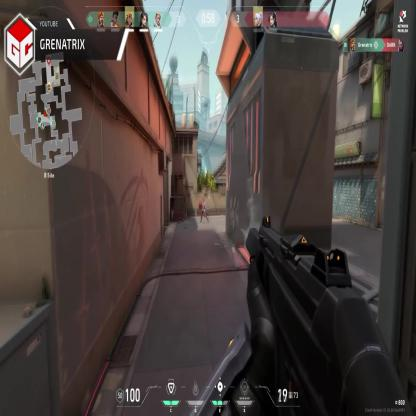enemy: (200, 198, 209, 224)
enemy_head: (202, 198, 204, 203)
